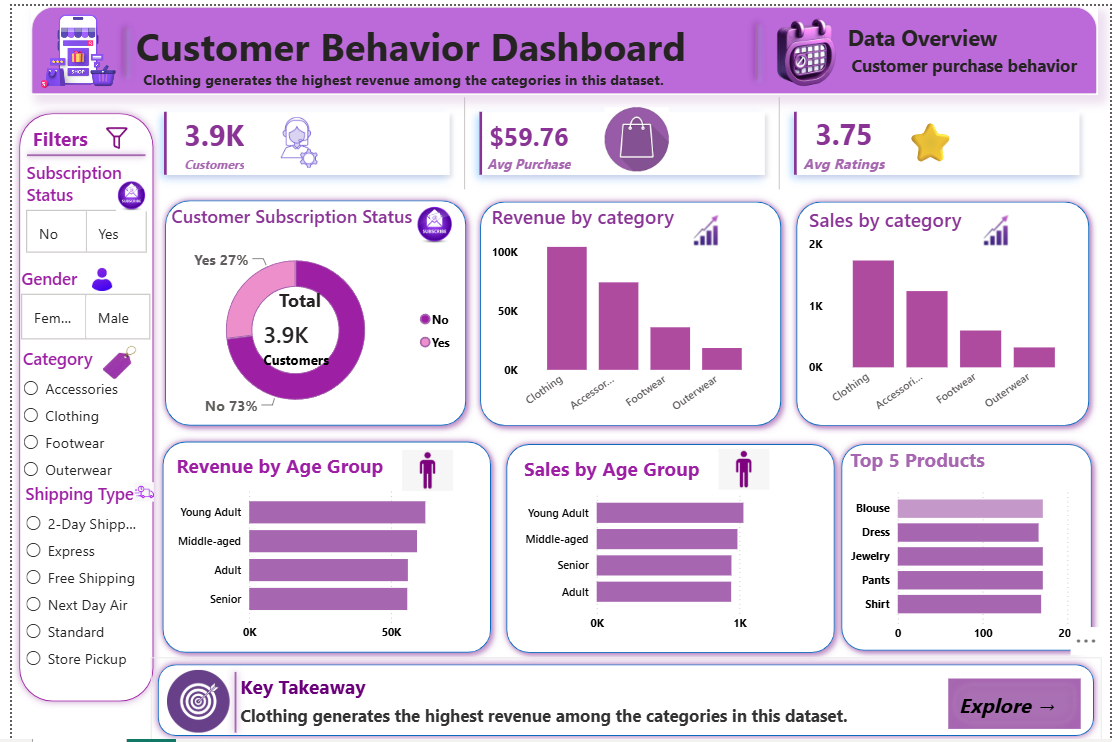

This screenshot's page, from the dashboard's own definition file:
{"tool":"powerbi","page":{"name":"Page 1","canvas":[1220,820],"ordinal":0},"visuals":[{"type":"cardVisual","fields":{"Data":["Customer.Number of Customer","Customer.Average purchase amount","Customer.Average Review Rating"]},"box":[135.6,84.9,1083.6,137],"z":0},{"type":"shape","box":[21.1,0,1185.5,98.7],"z":1000},{"type":"textbox","box":[40.8,9.2,723.7,80.3],"z":2000},{"type":"shape","box":[160.5,206.6,352.6,268.4],"z":3000},{"type":"donutChart","title":"             Customer Subscription Status","fields":{"Category":["Customer.subscription_status"],"Y":["CountNonNull(Customer.customer_id)"]},"box":[172.4,219.7,328.9,255.3],"z":4000},{"type":"shape","box":[863.2,207.9,343.4,267.1],"z":5000},{"type":"shape","box":[510.5,207.9,352.6,267.1],"z":6000},{"type":"clusteredColumnChart","title":"Revenue by category","fields":{"Y":["Sum(Customer.purchase_amount)"],"Category":["Customer.category"]},"box":[527.6,219.7,313.2,243.4],"z":7000},{"type":"clusteredColumnChart","title":"Sales by category","fields":{"Category":["Customer.category"],"Y":["CountNonNull(Customer.customer_id)"]},"box":[880.3,222.4,309.2,239.5],"z":8000},{"type":"shape","box":[0,110.6,165.2,669.7],"z":9000},{"type":"advancedSlicerVisual","fields":{"Values":["Customer.subscription_status"]},"box":[10.6,172.7,143.9,107.6],"z":10000},{"type":"advancedSlicerVisual","fields":{"Values":["Customer.gender"]},"box":[6.1,290.9,153,84.8],"z":11000},{"type":"listSlicer","title":"Category","fields":{"Values":["Customer.category"]},"box":[7.6,378.8,134.8,156.1],"z":12000},{"type":"listSlicer","fields":{"Values":["Customer.shipping_type"]},"box":[9.1,528.8,150,218.2],"z":13000},{"type":"shape","box":[157.9,475,382.9,252.6],"z":14000},{"type":"shape","box":[540.8,477.6,382.9,250],"z":15000},{"type":"clusteredBarChart","title":"Revenue by Age Group","fields":{"Y":["Sum(Customer.purchase_amount)"],"Category":["Customer.age_group"]},"box":[177.6,496.1,353.9,218.4],"z":16000},{"type":"clusteredBarChart","title":"Sales by Age Group","fields":{"Y":["CountNonNull(Customer.customer_id)"],"Category":["Customer.age_group"]},"box":[564.5,498.7,336.8,205.3],"z":17000},{"type":"cardVisual","title":"Total","fields":{"Data":["CountNonNull(Customer.customer_id)"]},"box":[252,313,137,105],"z":18000},{"type":"actionButton","box":[794.7,490.8,64.5,60.5],"z":19000},{"type":"image","box":[784.2,490.8,56.6,48.7],"z":20000},{"type":"image","box":[432.9,492.1,56.6,48.7],"z":21000},{"type":"actionButton","box":[1061.8,217.1,88.2,63.2],"z":22000},{"type":"actionButton","box":[740.8,217.1,88.2,63.2],"z":23000},{"type":"image","box":[657.6,112.1,74.2,71.2],"z":24000},{"type":"image","box":[89.4,290.9,22.7,27.3],"z":25000},{"type":"image","box":[97,134.8,37.9,24.2],"z":26000},{"type":"textbox","box":[18.2,127.3,115.2,39.4],"z":27000},{"type":"image","box":[98.5,375.8,40.9,42.4],"z":28000},{"type":"image","box":[136.4,528.8,21.2,21.2],"z":29000},{"type":"image","box":[16.7,0,113.6,98.5],"z":30000},{"type":"textbox","box":[139.4,65.2,592.4,33.3],"z":31000},{"type":"image","box":[437.5,221.2,63.8,43.8],"z":32000},{"type":"image","box":[287.9,124.2,63.6,56.1],"z":33000},{"type":"shape","box":[912.5,477.5,296.2,247.5],"z":34000},{"type":"textbox","box":[986.4,115.2,75.8,74.2],"z":35000},{"type":"shape","box":[9.1,151.5,145.5,28.8],"z":36000},{"type":"clusteredBarChart","title":"Top 5 Products","fields":{"Category":["Customer.item_purchased"],"Y":["CountNonNull(Customer.customer_id)"]},"box":[926.2,488.8,262.5,226.2],"z":37000},{"type":"image","box":[187.9,736.4,57.6,51.5],"z":38000},{"type":"shape","box":[154.5,724.2,1056.1,95.5],"z":39000},{"type":"image","box":[113.6,192.4,37.9,34.8],"z":40000},{"type":"image","box":[172.7,736.4,69.7,72.7],"z":41000},{"type":"shape","box":[234.8,731.8,27.3,83.3],"z":42000},{"type":"textbox","box":[248.5,736.4,175.8,45.5],"z":43000},{"type":"textbox","box":[248.5,771.2,792.4,48.5],"z":44000},{"type":"actionButton","box":[1040.9,747,147,56.1],"z":45000},{"type":"shape","box":[81.8,13.6,87.9,72.7],"z":46000},{"type":"shape","box":[783.3,9.1,87.9,80.3],"z":47000},{"type":"image","box":[840.9,9.1,84.8,84.8],"z":48000},{"type":"textbox","box":[924.2,13.6,192.4,47],"z":49000},{"type":"textbox","box":[927.3,48.5,262.1,34.8],"z":50000}]}

Visuals, with their boxes in screenshot pixels (x1, y1, x2, y2), scaled from the page's 1220x820 canvas onto the 1112x742 screenshot:
cardVisual - Customer.Number of Customer x Customer.Average purchase amount: left=124, top=77, right=1111, bottom=201
shape: left=19, top=0, right=1100, bottom=89
textbox: left=37, top=8, right=697, bottom=81
shape: left=146, top=187, right=468, bottom=430
"             Customer Subscription Status" donutChart: left=157, top=199, right=457, bottom=430
shape: left=787, top=188, right=1100, bottom=430
shape: left=465, top=188, right=787, bottom=430
"Revenue by category" clusteredColumnChart: left=481, top=199, right=766, bottom=419
"Sales by category" clusteredColumnChart: left=802, top=201, right=1084, bottom=418
shape: left=0, top=100, right=151, bottom=706
advancedSlicerVisual - Customer.subscription_status: left=10, top=156, right=141, bottom=254
advancedSlicerVisual - Customer.gender: left=6, top=263, right=145, bottom=340
"Category" listSlicer: left=7, top=343, right=130, bottom=484
listSlicer - Customer.shipping_type: left=8, top=478, right=145, bottom=676
shape: left=144, top=430, right=493, bottom=658
shape: left=493, top=432, right=842, bottom=658
"Revenue by Age Group" clusteredBarChart: left=162, top=449, right=484, bottom=647
"Sales by Age Group" clusteredBarChart: left=515, top=451, right=822, bottom=637
"Total" cardVisual: left=230, top=283, right=355, bottom=378
actionButton: left=724, top=444, right=783, bottom=499
image: left=715, top=444, right=766, bottom=488
image: left=395, top=445, right=446, bottom=489
actionButton: left=968, top=196, right=1048, bottom=254
actionButton: left=675, top=196, right=756, bottom=254
image: left=599, top=101, right=667, bottom=166
image: left=81, top=263, right=102, bottom=288
image: left=88, top=122, right=123, bottom=144
textbox: left=17, top=115, right=122, bottom=151
image: left=90, top=340, right=127, bottom=378
image: left=124, top=478, right=144, bottom=498
image: left=15, top=0, right=119, bottom=89
textbox: left=127, top=59, right=667, bottom=89
image: left=399, top=200, right=457, bottom=240
image: left=262, top=112, right=320, bottom=163
shape: left=832, top=432, right=1102, bottom=656
textbox: left=899, top=104, right=968, bottom=171
shape: left=8, top=137, right=141, bottom=163
"Top 5 Products" clusteredBarChart: left=844, top=442, right=1083, bottom=647
image: left=171, top=666, right=224, bottom=713
shape: left=141, top=655, right=1103, bottom=741
image: left=104, top=174, right=138, bottom=206
image: left=157, top=666, right=221, bottom=732
shape: left=214, top=662, right=239, bottom=738
textbox: left=227, top=666, right=387, bottom=708
textbox: left=227, top=698, right=949, bottom=741
actionButton: left=949, top=676, right=1083, bottom=727
shape: left=75, top=12, right=155, bottom=78
shape: left=714, top=8, right=794, bottom=81
image: left=766, top=8, right=844, bottom=85
textbox: left=842, top=12, right=1018, bottom=55
textbox: left=845, top=44, right=1084, bottom=75
